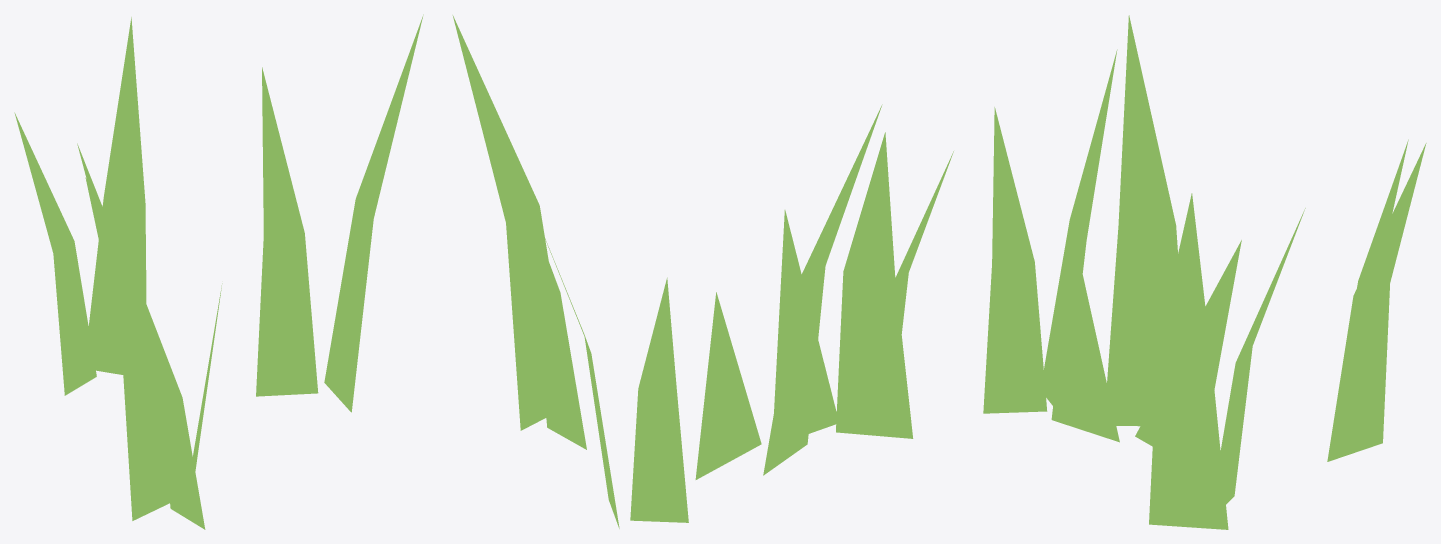
The model's file is Grass_a_TwoS_06.fbx.
The picture shows the model from 3 angles, left to right: view 1: azimuth 30°, elevation 25°; view 2: azimuth 150°, elevation 25°; view 3: azimuth 270°, elevation 25°; orthographic projection. The views are drawn at different scales.
Visible parts, largest first — view 1: Grass_a_TwoS_06; view 2: Grass_a_TwoS_06; view 3: Grass_a_TwoS_06.
Boxes of the visible parts, x1=… form: Grass_a_TwoS_06: x1=14, y1=14, x2=423, y2=529; Grass_a_TwoS_06: x1=452, y1=15, x2=953, y2=528; Grass_a_TwoS_06: x1=983, y1=15, x2=1426, y2=529.
Size of the model in its own units: 0.6954 by 0.6655 by 0.6672.
